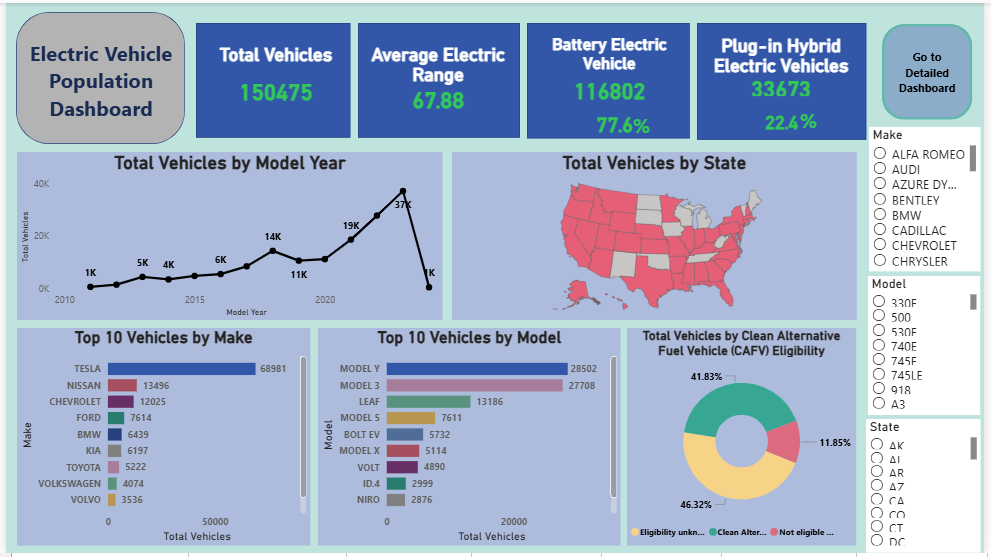

What the dashboard file says about the page in this screenshot:
{"tool":"powerbi","page":{"name":"Main Dashboard","canvas":[1280,720],"ordinal":10},"visuals":[{"type":"shape","box":[13.1,11.8,221.2,172.8],"z":0},{"type":"textbox","box":[19.6,41.9,209.5,120.4],"z":1000},{"type":"actionButton","title":"Go to Detailed Dashboard","box":[1146.5,27.5,118.4,125.2],"z":2000},{"type":"shape","box":[249.1,26.2,202.3,150],"z":3000},{"type":"shape","box":[461.1,26.2,212,150],"z":4000},{"type":"shape","box":[682.7,26.2,213.3,151.4],"z":5000},{"type":"shape","box":[904.3,26.2,221.6,152.8],"z":6000},{"type":"card","title":"Total Vehicles","fields":{"Values":["Electric_Vehicle_Population_Dat.Total Vehicles"]},"box":[264.4,53.7,178,95.6],"z":7000},{"type":"card","title":"Average Electric Range","fields":{"Values":["Electric_Vehicle_Population_Dat.Avg Electric Range"]},"box":[468,53.7,196.8,90.8],"z":8000},{"type":"card","title":"Battery Electric Vehicle","fields":{"Values":["Electric_Vehicle_Population_Dat.Total BEV Vehicles"]},"box":[697.8,41.3,184.4,95],"z":9000},{"type":"card","fields":{"Values":["Electric_Vehicle_Population_Dat.% BEV Vehicles"]},"box":[737.7,140.4,117,37.2],"z":10000},{"type":"textbox","box":[816.2,136.3,60.6,46.8],"z":11000},{"type":"card","title":"Plug-in Hybrid Electric Vehicles ","fields":{"Values":["Electric_Vehicle_Population_Dat.Total PHEV Vehicles"]},"box":[916.6,41.3,196.8,85.3],"z":12000},{"type":"card","fields":{"Values":["Electric_Vehicle_Population_Dat.% PHEV Vehicles"]},"box":[974.5,125.2,82.6,60.6],"z":13000},{"type":"textbox","box":[1033.6,129.4,45.4,46.8],"z":14000},{"type":"lineChart","fields":{"Category":["Electric_Vehicle_Population_Dat.Model Year"],"Y":["Electric_Vehicle_Population_Dat.Total Vehicles"]},"box":[13.8,195.4,557.4,220.2],"z":15000},{"type":"shapeMap","fields":{"Category":["Electric_Vehicle_Population_Dat.State"]},"box":[583.6,195.4,529.9,220.2],"z":16000},{"type":"clusteredBarChart","title":"Top 10 Vehicles by Make","fields":{"Category":["Electric_Vehicle_Population_Dat.Make"],"Y":["Electric_Vehicle_Population_Dat.Total Vehicles"]},"box":[13.8,425.3,384,284.9],"z":17000},{"type":"donutChart","fields":{"Category":["Electric_Vehicle_Population_Dat.Clean Alternative Fuel Vehicle (CAFV) Eligibility"],"Y":["Electric_Vehicle_Population_Dat.Total Vehicles"]},"box":[813.4,425.3,300,284.9],"z":18000},{"type":"clusteredBarChart","title":"Top 10 Vehicles by Model","fields":{"Category":["Electric_Vehicle_Population_Dat.Model"],"Y":["Electric_Vehicle_Population_Dat.Total Vehicles"]},"box":[408.8,425.3,396.4,284.9],"z":19000},{"type":"listSlicer","fields":{"Values":["Electric_Vehicle_Population_Dat.Make"]},"box":[1130,162.4,145.9,188.6],"z":20000},{"type":"listSlicer","fields":{"Values":["Electric_Vehicle_Population_Dat.Model"]},"box":[1128.6,357.8,147.3,181.7],"z":21000},{"type":"listSlicer","fields":{"Values":["Electric_Vehicle_Population_Dat.State"]},"box":[1125.8,545,150,174.8],"z":22000}]}

Visuals, with their boxes in screenshot pixels (x1, y1, x2, y2), scaled from the page's 1280x720 canvas onto the 991x557 screenshot:
shape: box(10, 9, 181, 143)
textbox: box(15, 32, 177, 126)
"Go to Detailed Dashboard" actionButton: box(888, 21, 979, 118)
shape: box(193, 20, 349, 136)
shape: box(357, 20, 521, 136)
shape: box(529, 20, 694, 137)
shape: box(700, 20, 872, 138)
"Total Vehicles" card: box(205, 42, 343, 116)
"Average Electric Range" card: box(362, 42, 515, 112)
"Battery Electric Vehicle" card: box(540, 32, 683, 105)
card - Electric_Vehicle_Population_Dat.% BEV Vehicles: box(571, 109, 662, 137)
textbox: box(632, 105, 679, 142)
"Plug-in Hybrid Electric Vehicles " card: box(710, 32, 862, 98)
card - Electric_Vehicle_Population_Dat.% PHEV Vehicles: box(754, 97, 818, 144)
textbox: box(800, 100, 835, 136)
lineChart - Electric_Vehicle_Population_Dat.Model Year x Electric_Vehicle_Population_Dat.Total Vehicles: box(11, 151, 442, 322)
shapeMap - Electric_Vehicle_Population_Dat.State: box(452, 151, 862, 322)
"Top 10 Vehicles by Make" clusteredBarChart: box(11, 329, 308, 549)
donutChart - Electric_Vehicle_Population_Dat.Clean Alternative Fuel Vehicle (CAFV) Eligibility x Electric_Vehicle_Population_Dat.Total Vehicles: box(630, 329, 862, 549)
"Top 10 Vehicles by Model" clusteredBarChart: box(317, 329, 623, 549)
listSlicer - Electric_Vehicle_Population_Dat.Make: box(875, 126, 988, 272)
listSlicer - Electric_Vehicle_Population_Dat.Model: box(874, 277, 988, 417)
listSlicer - Electric_Vehicle_Population_Dat.State: box(872, 422, 988, 556)
